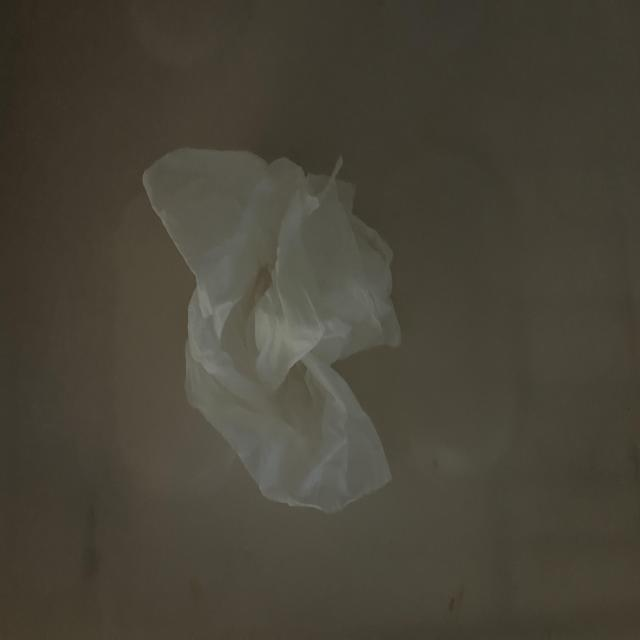衛生紙: (185, 105, 540, 386)
